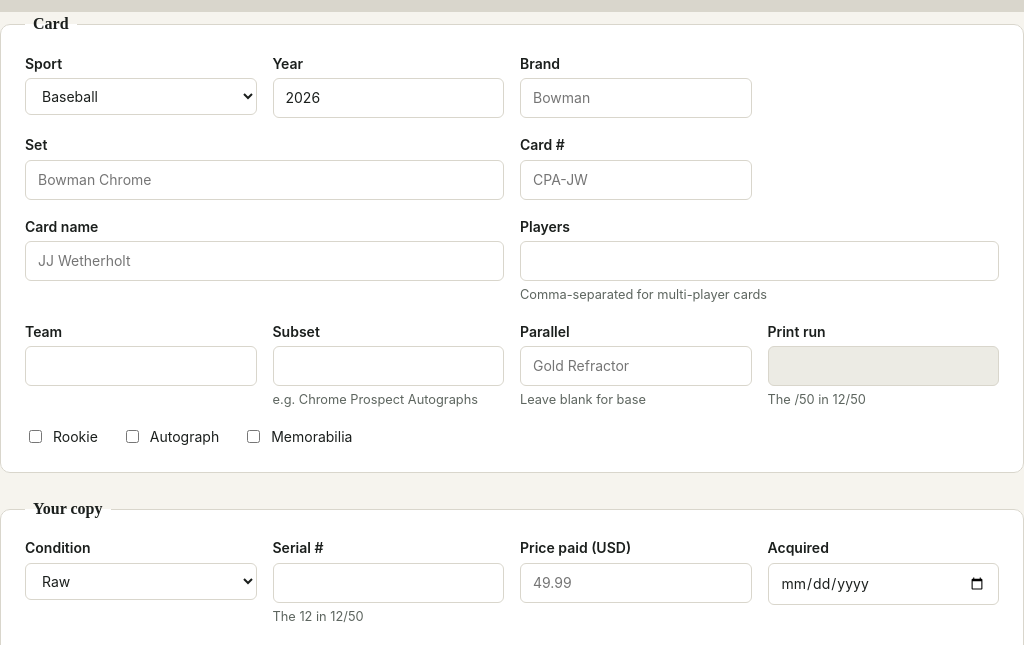
Test: CardForm › shows grade fields only for graded cards
This screenshot has width=1024, height=645.
Expected: the field labelled "Grade" is not shown
Select "Graded" in the dropdown labelled "Condition" at {"x": 141, "y": 582}, box [25,563,256,600]
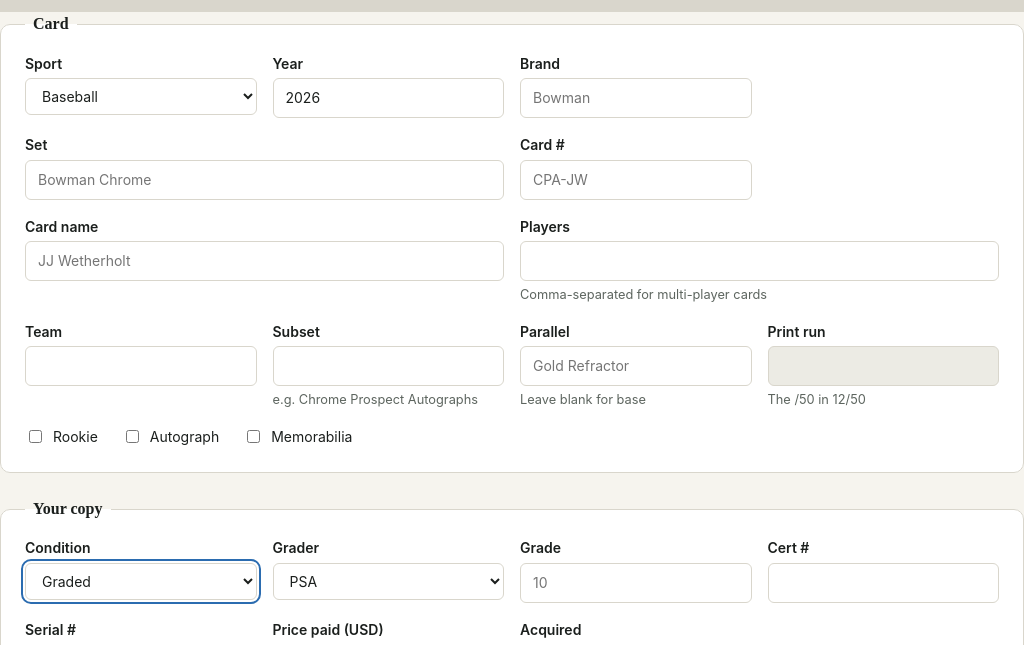
Expected: the field labelled "Grade" is shown, [520,563,752,603]
Expected: the dropdown labelled "Grader" shows "PSA", [272,563,504,600]
